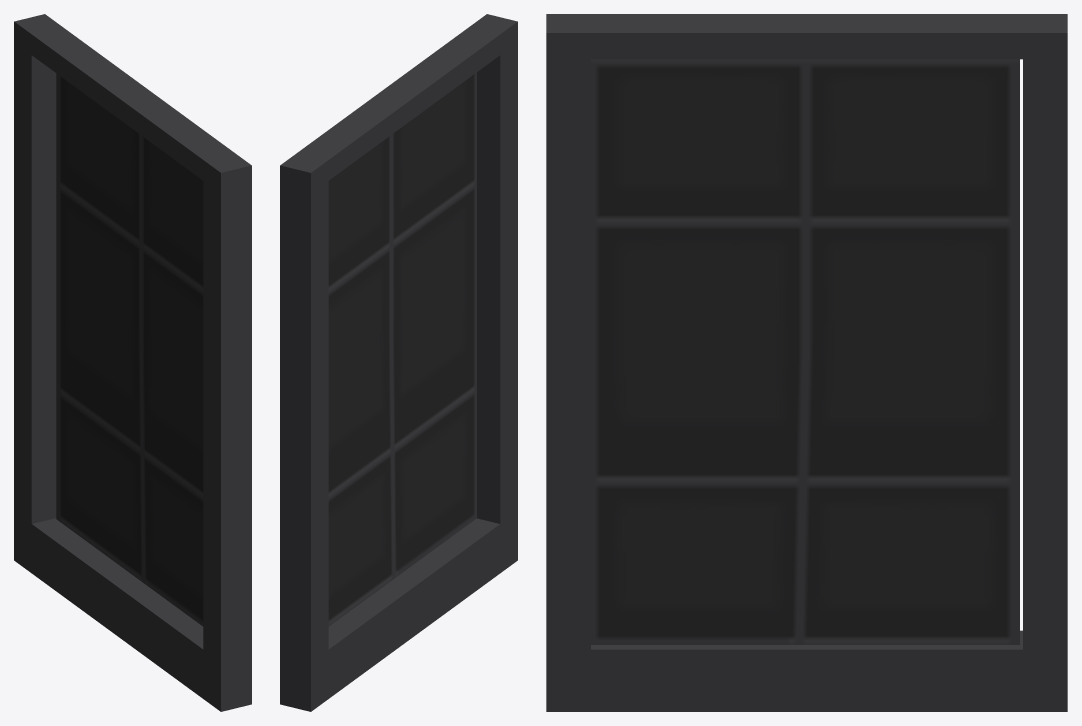
The model's file is window.fbx.
The picture shows the model from 3 angles, left to right: view 1: azimuth 30°, elevation 25°; view 2: azimuth 150°, elevation 25°; view 3: azimuth 270°, elevation 25°; orthographic projection. The views are drawn at different scales.
Parts seen in each view (by area): view 1: Cube.027; view 2: Cube.027; view 3: Cube.027.
Boxes of the visible parts, x1,y1,x2,y2 form: Cube.027: (14,14,251,711); Cube.027: (280,14,517,711); Cube.027: (546,14,1067,711).
Bounding box in the file's own units: 21.5 × 359 × 250.
